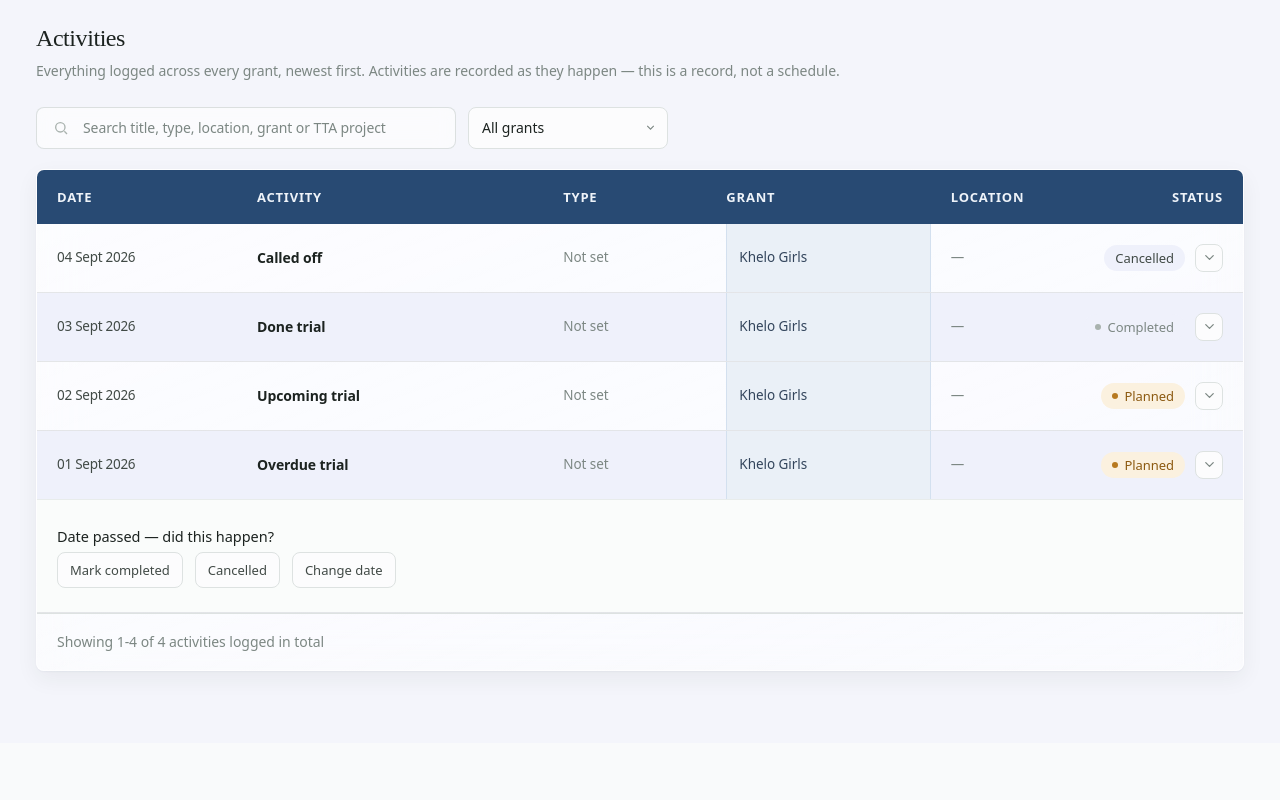
Scenario: a failed save says so and keeps the prompt
Expected: the text "Overdue trial" is shown, [257, 455, 348, 474]
Click the button "Mark completed": x=120, y=570 [57, 552, 183, 588]
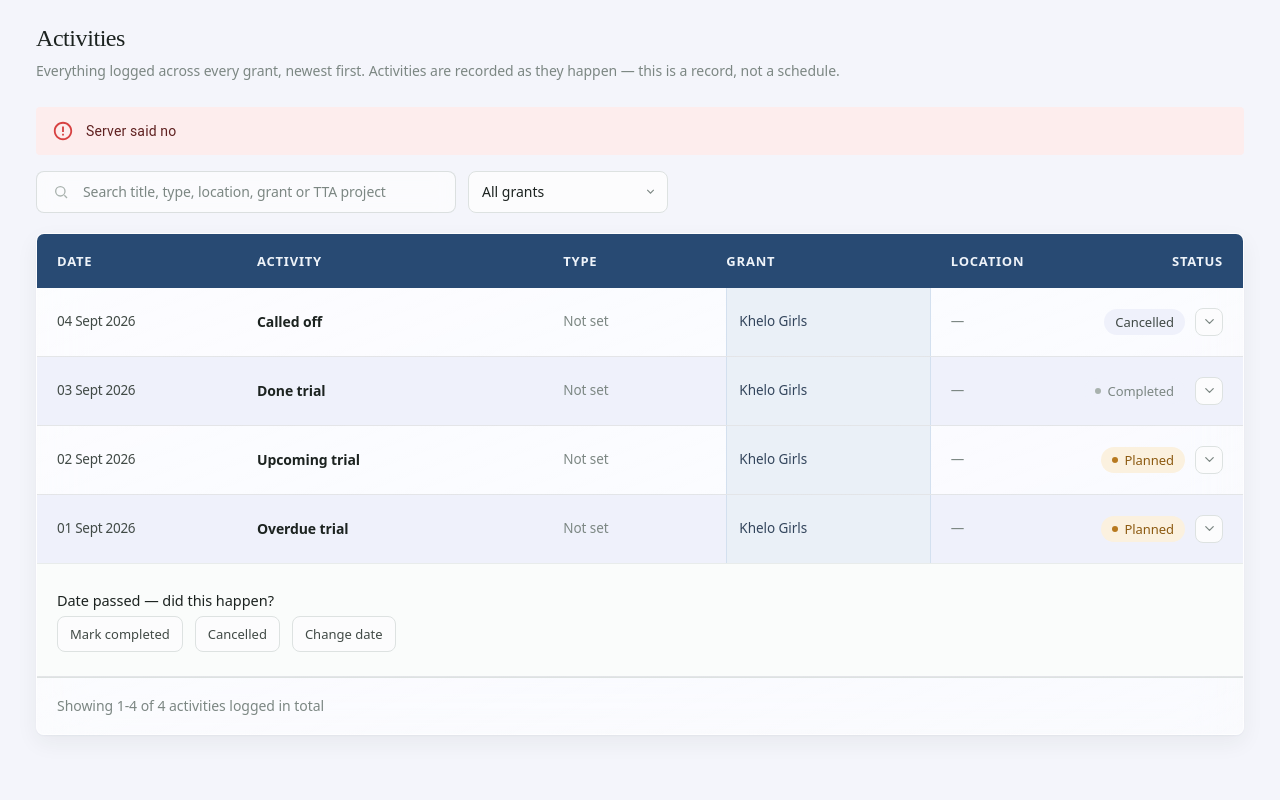
Expected: the text "Server said no" is shown, [86, 123, 176, 139]
